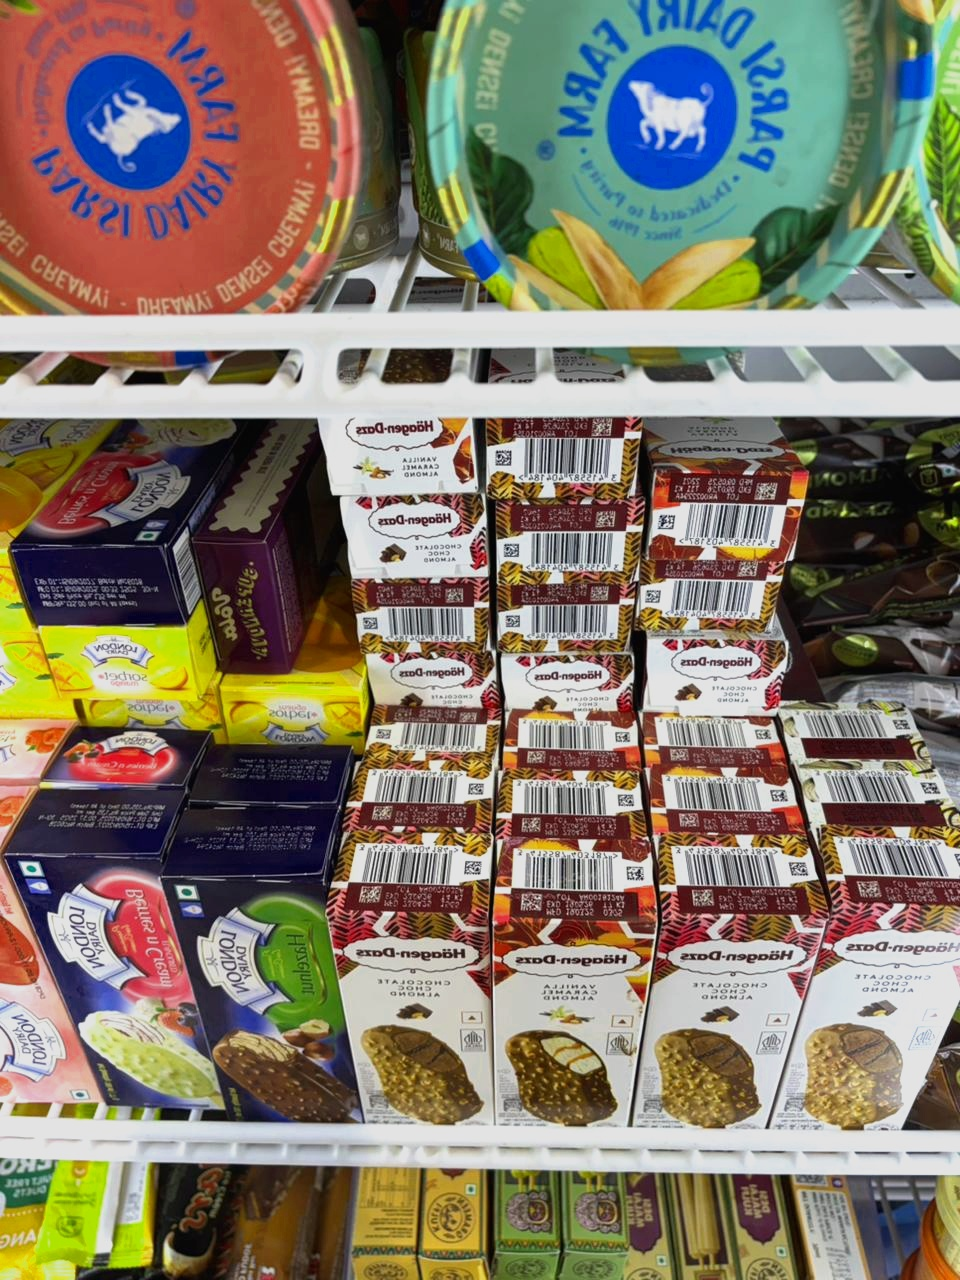Haagen-Dazs IceCream Bars: (627, 840, 852, 1136), (493, 849, 654, 1130), (813, 840, 960, 1140), (347, 846, 489, 1142), (633, 418, 810, 548), (490, 498, 646, 598), (633, 548, 800, 641), (636, 631, 800, 722), (325, 407, 483, 500), (484, 417, 638, 505), (335, 772, 504, 849), (488, 765, 646, 847), (344, 492, 486, 582), (498, 641, 650, 725), (352, 570, 496, 658), (643, 770, 800, 846), (496, 708, 654, 778), (807, 762, 953, 834), (495, 588, 641, 657), (365, 652, 506, 718), (778, 700, 924, 764), (638, 719, 785, 780), (360, 720, 496, 775)
